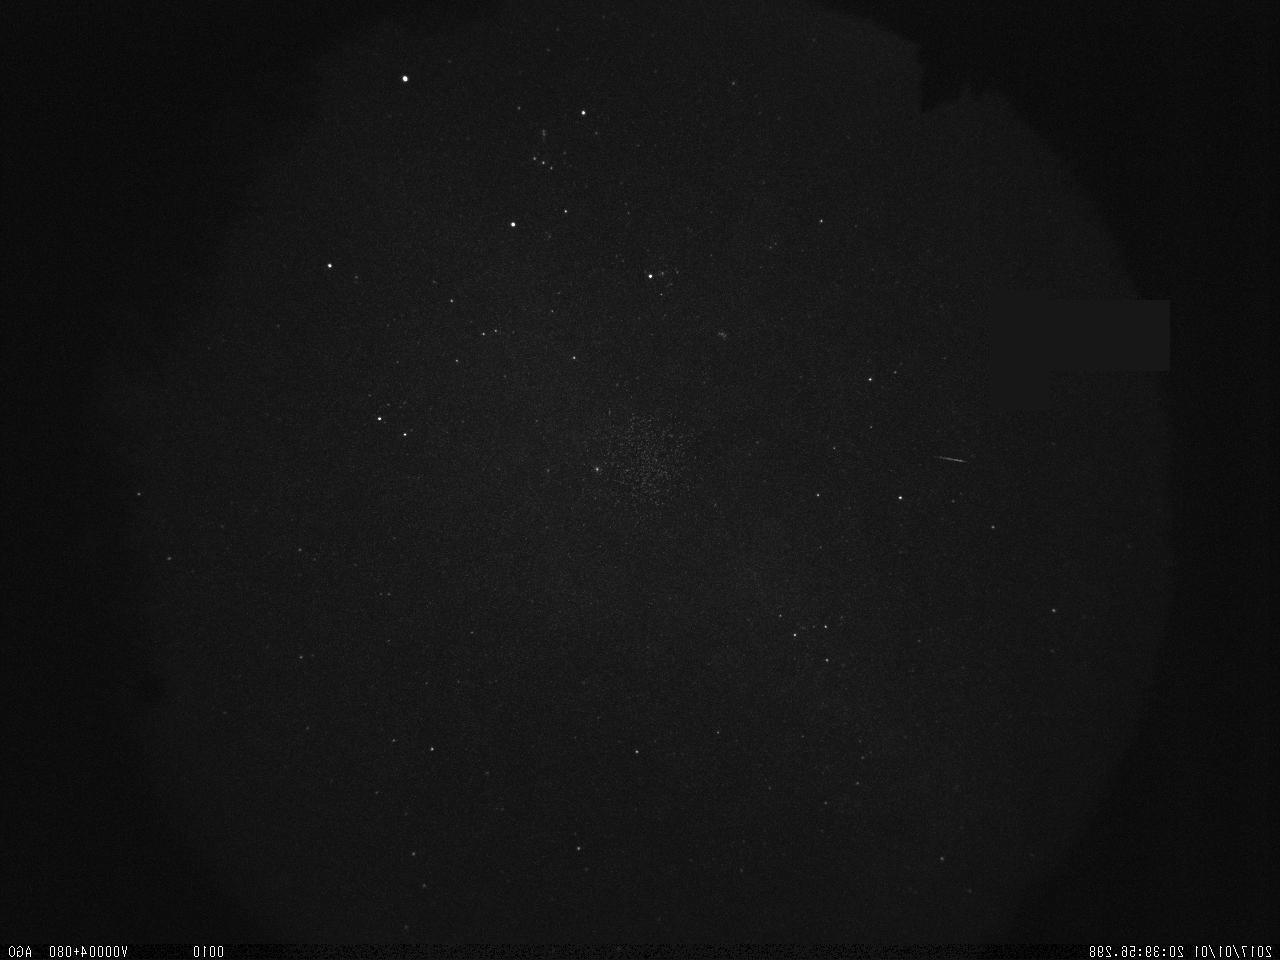meteor: (865, 437, 995, 489)
